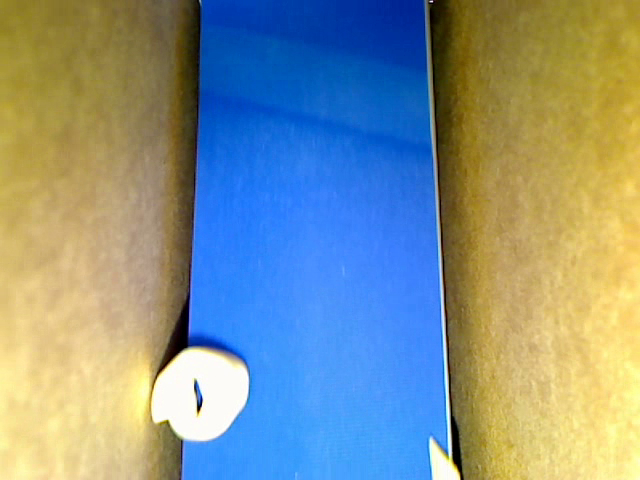penne: (427, 436, 460, 479)
tortellini: (151, 347, 248, 442)
